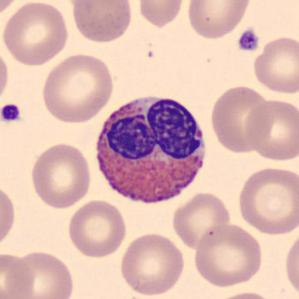Eosinophil: (89, 88, 214, 214)
Platelets: (236, 27, 261, 54), (0, 101, 23, 125)
RBC: (39, 49, 116, 124), (191, 221, 265, 288), (117, 230, 187, 298), (0, 0, 71, 67), (208, 83, 274, 155), (28, 141, 93, 210), (235, 165, 298, 236), (64, 198, 128, 259), (170, 190, 232, 251), (3, 248, 76, 299), (242, 97, 297, 163), (68, 0, 134, 44), (251, 34, 298, 95), (185, 0, 252, 40), (0, 251, 36, 299), (134, 0, 186, 29), (0, 180, 17, 253), (282, 230, 299, 298), (0, 44, 11, 107), (209, 289, 277, 299), (0, 0, 25, 21)
